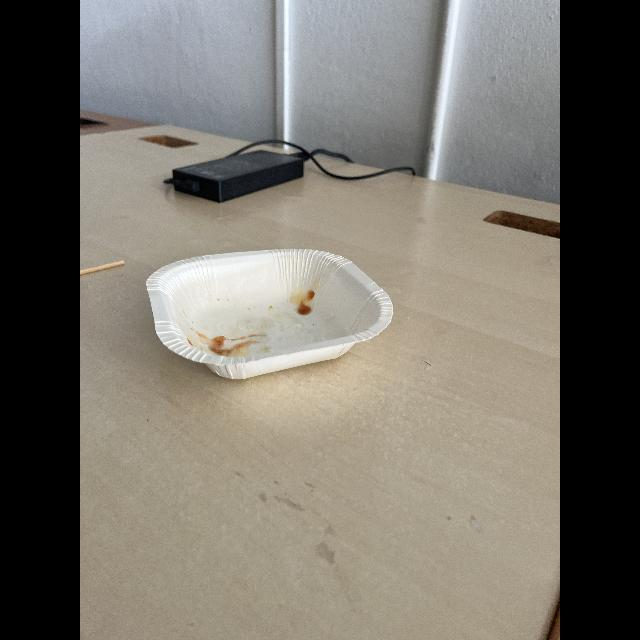cardboard_bowl: (144, 235, 396, 382)
